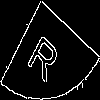R: (25, 25, 66, 84)
